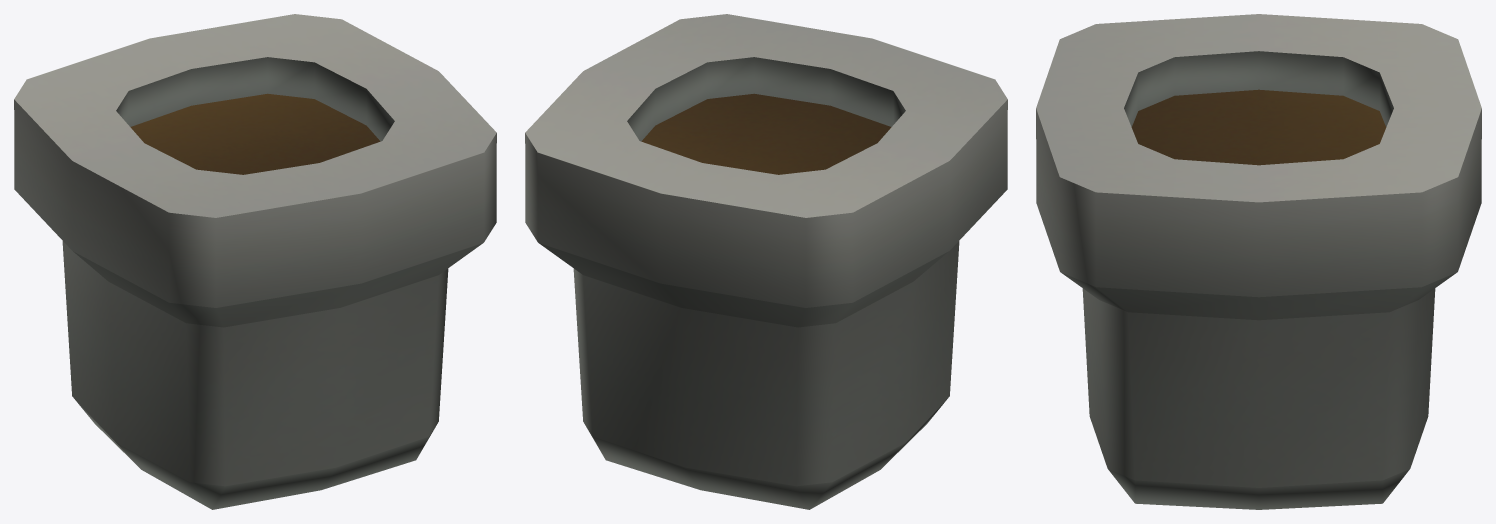
File: flower_pot_small_lightgrey.fbx
The picture shows the model from 3 angles, left to right: view 1: azimuth 30°, elevation 25°; view 2: azimuth 150°, elevation 25°; view 3: azimuth 270°, elevation 25°; orthographic projection. The views are drawn at different scales.
Visible parts, largest first — view 1: flower_pot_small_lightgrey; view 2: flower_pot_small_lightgrey; view 3: flower_pot_small_lightgrey.
Part boxes in pixels (x1,y1,x2,y2): flower_pot_small_lightgrey: (14,14,496,509); flower_pot_small_lightgrey: (525,14,1007,509); flower_pot_small_lightgrey: (1036,14,1481,509).
Bounding box in the file's own units: 29.43 × 25 × 29.43.
